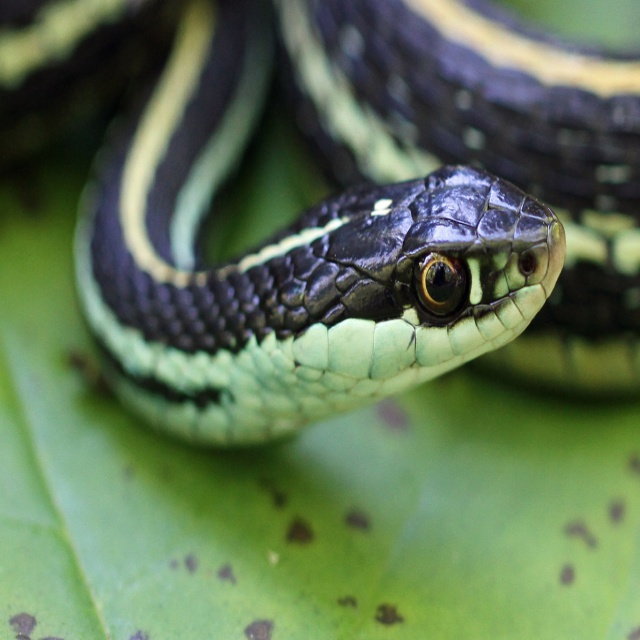Snake: (0, 0, 640, 449)
